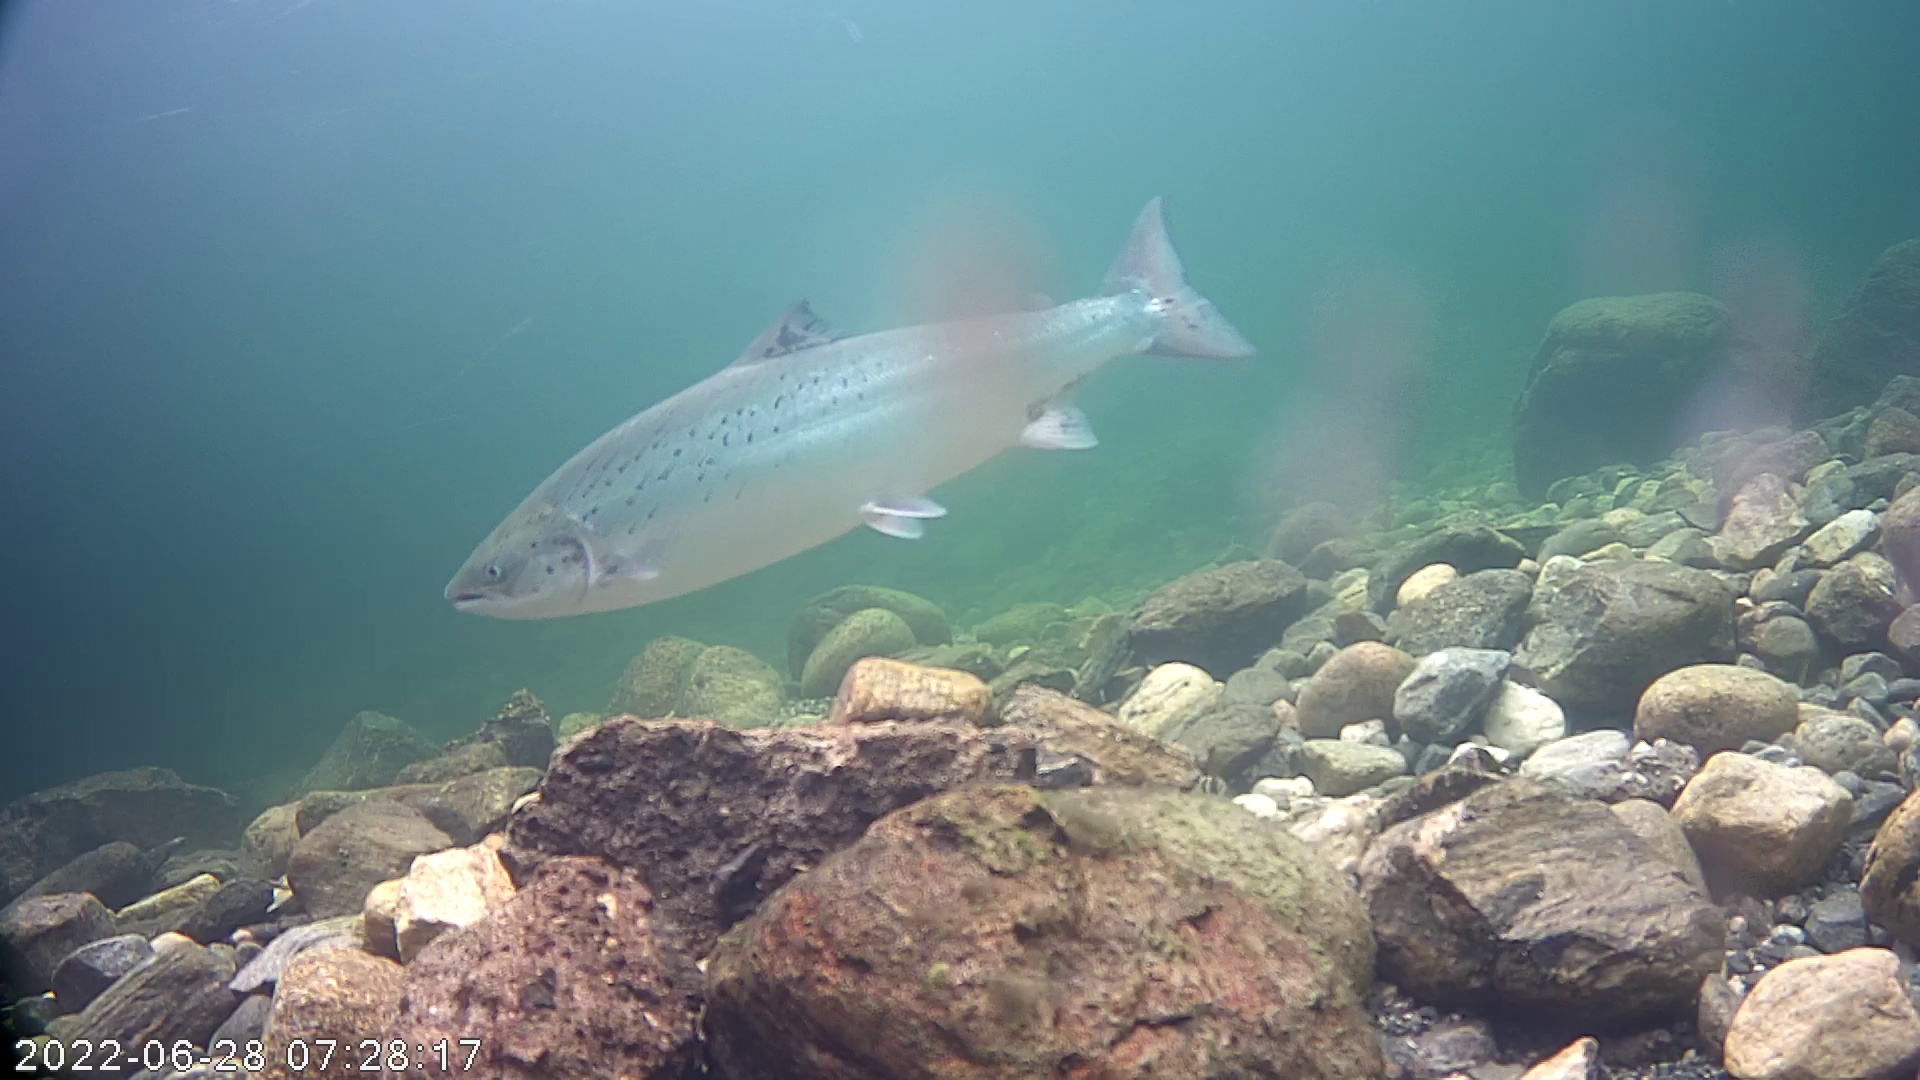salmon: (448, 171, 1287, 628)
